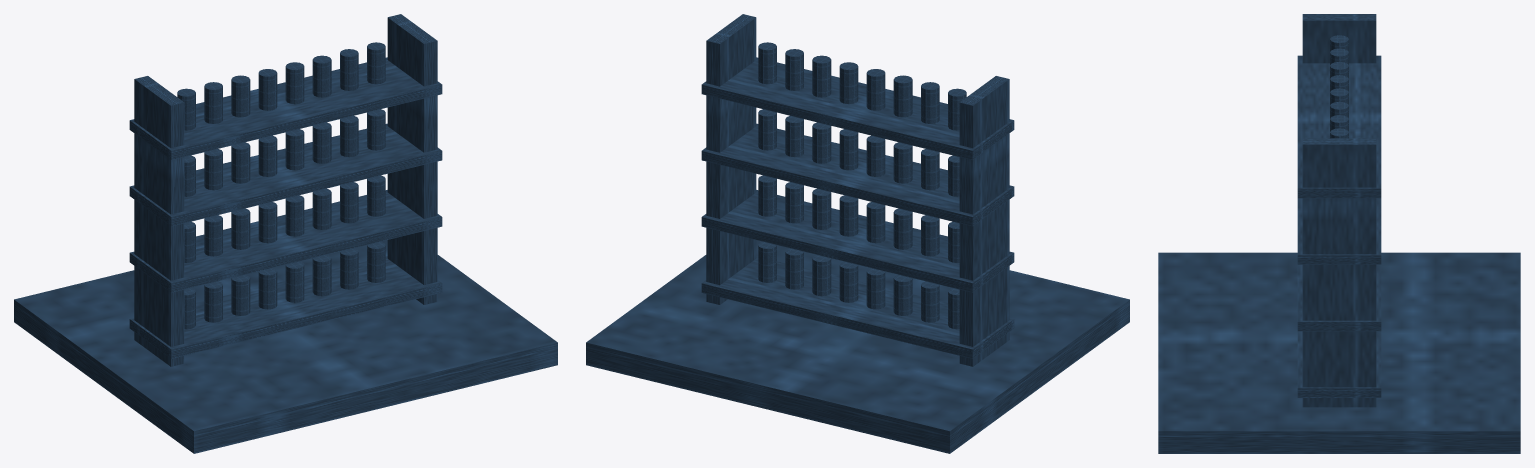
The model's file is ink_archive_01.glb.
3 renders of one model, left to right at view 1: azimuth 30°, elevation 25°; view 2: azimuth 150°, elevation 25°; view 3: azimuth 270°, elevation 25°, orthographic.
Parts seen in each view (by area): view 1: Foundation, ArchivePost, ArchivePost.001, Shelf.002, Shelf.001, Shelf.003, Shelf, Scroll.026, Scroll.028, Scroll.029, Scroll.027, Scroll.012 (+24 smaller); view 2: Foundation, ArchivePost, ArchivePost.001, Shelf.002, Shelf.001, Shelf.003, Shelf, Scroll.026, Scroll.028, Scroll.029, Scroll.027, Scroll.012 (+24 smaller); view 3: Foundation, ArchivePost.001, Shelf.003, ArchivePost, Shelf.001, Shelf, Shelf.002.
Boxes of the visible parts, left/top/right/bottom form: Foundation: left=14, top=240, right=557, bottom=453; ArchivePost: left=134, top=76, right=184, bottom=366; ArchivePost.001: left=387, top=14, right=437, bottom=304; Shelf.002: left=129, top=123, right=442, bottom=226; Shelf.001: left=129, top=190, right=442, bottom=292; Shelf.003: left=129, top=57, right=442, bottom=160; Shelf: left=129, top=256, right=442, bottom=358; Scroll.026: left=231, top=75, right=250, bottom=117; Scroll.028: left=285, top=62, right=304, bottom=104; Scroll.029: left=312, top=55, right=331, bottom=97; Scroll.027: left=258, top=69, right=277, bottom=110; Scroll.012: left=285, top=195, right=304, bottom=236; Foundation: left=586, top=240, right=1129, bottom=453; ArchivePost: left=959, top=76, right=1009, bottom=366; ArchivePost.001: left=706, top=14, right=756, bottom=304; Shelf.002: left=701, top=123, right=1014, bottom=226; Shelf.001: left=701, top=190, right=1014, bottom=292; Shelf.003: left=701, top=57, right=1014, bottom=160; Shelf: left=701, top=256, right=1014, bottom=358; Scroll.026: left=893, top=75, right=912, bottom=117; Scroll.028: left=839, top=62, right=858, bottom=104; Scroll.029: left=812, top=55, right=831, bottom=97; Scroll.027: left=866, top=69, right=885, bottom=110; Scroll.012: left=839, top=195, right=858, bottom=236; Foundation: left=1158, top=252, right=1520, bottom=453; ArchivePost.001: left=1302, top=138, right=1376, bottom=407; Shelf.003: left=1297, top=55, right=1381, bottom=198; ArchivePost: left=1302, top=14, right=1376, bottom=63; Shelf.001: left=1297, top=264, right=1381, bottom=331; Shelf: left=1297, top=331, right=1381, bottom=397; Shelf.002: left=1297, top=198, right=1381, bottom=264.
Bounding box in the file's own units: 4.03 × 3 × 3.45.
1 material, 1 textured.
